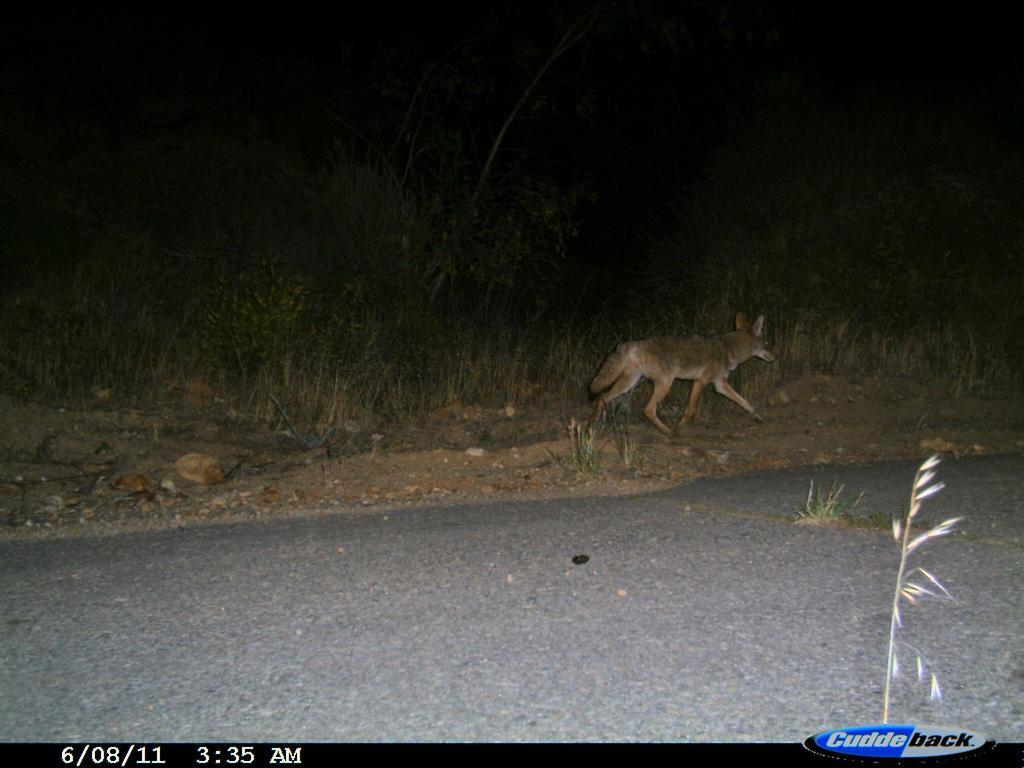coyote: (575, 297, 793, 461)
